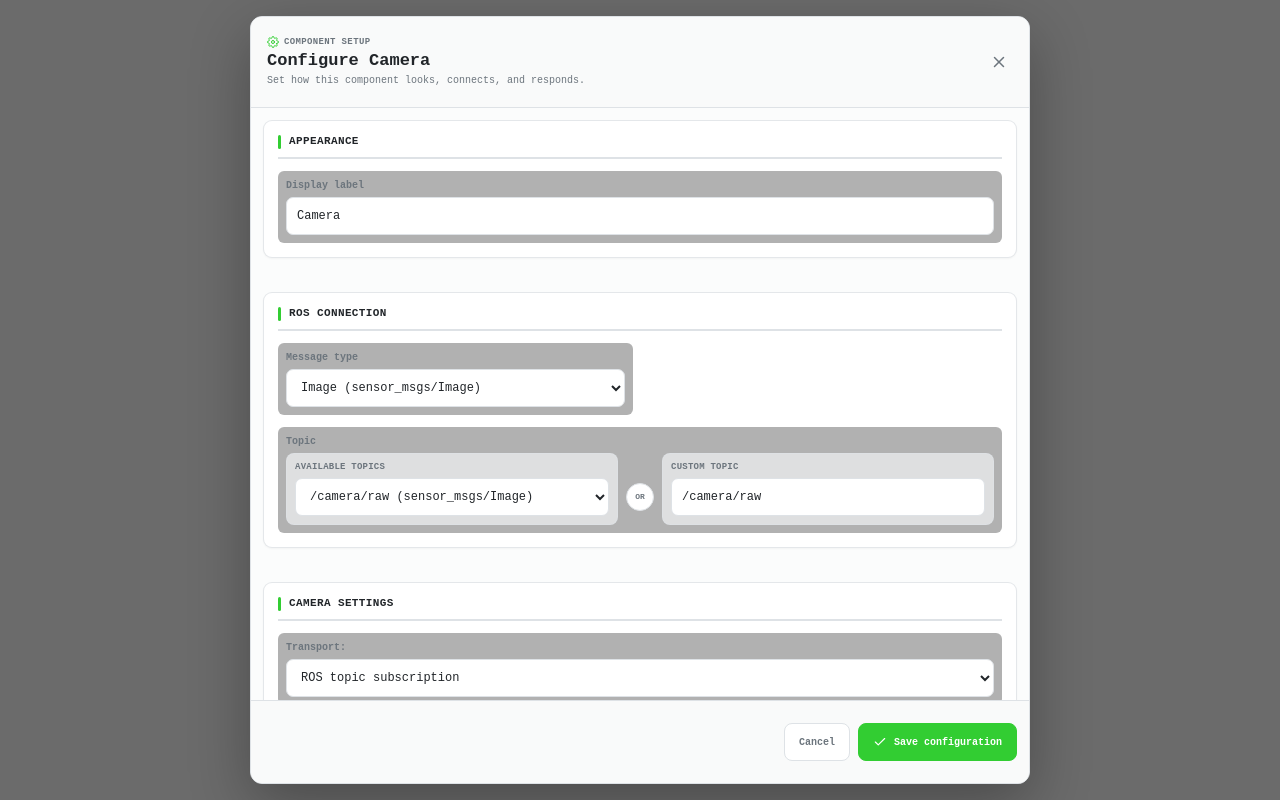
Test: ComponentSettingsModal › fills camera settings when an available ROS topic is selected
Select "/camera/compressed (sensor_msgs/msg/CompressedImage)" in the dropdown labelled "Topic". click: (452, 497)
box: x1=295 y1=478 x2=609 y2=516
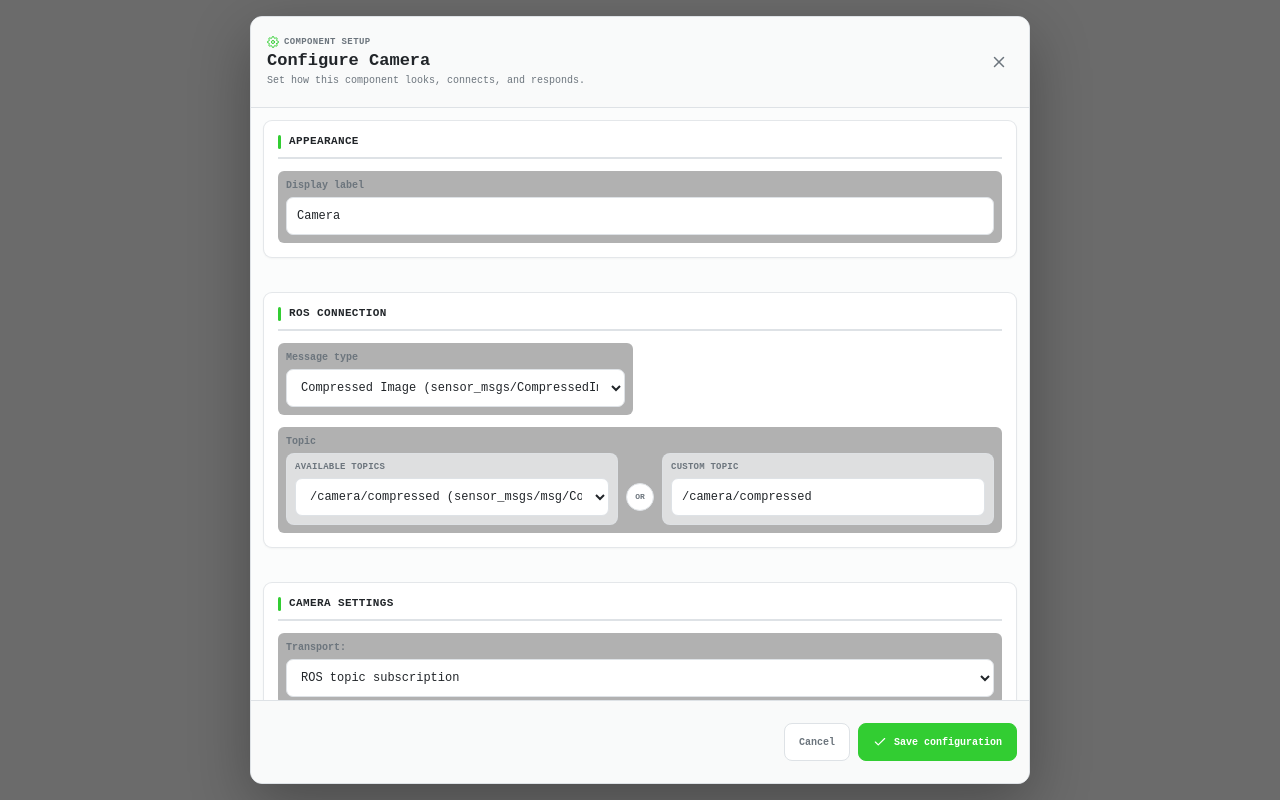
Check: the dropdown labelled "Message type" shows "Compressed Image (sensor_msgs/CompressedImage)", box x1=286 y1=369 x2=625 y2=407
